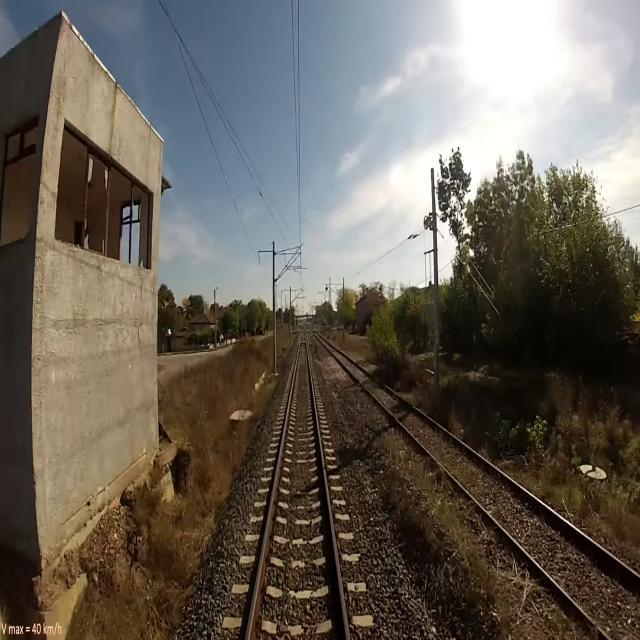rail-track: (326, 344, 640, 639), (250, 340, 344, 639)
